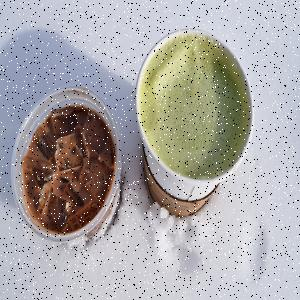Cup: (136, 28, 256, 218), (12, 86, 124, 245)
